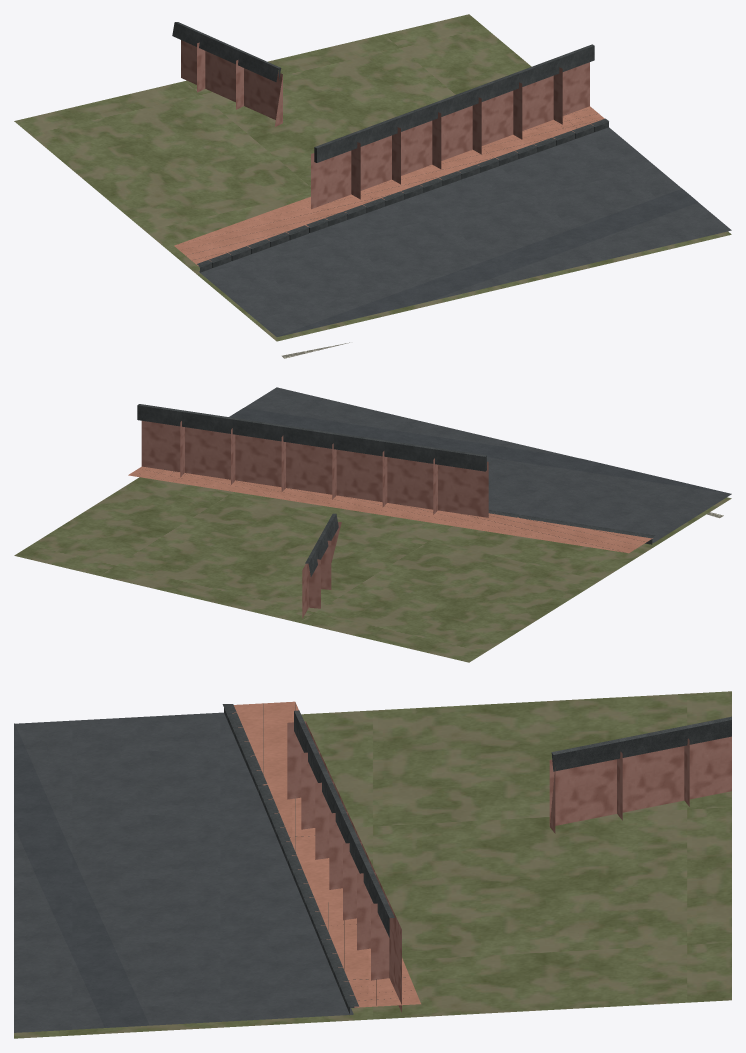
3 views of the same model, one above another, from view 1: azimuth 30°, elevation 25°; view 2: azimuth 150°, elevation 25°; view 3: azimuth 270°, elevation 25° (orthographic). The views are drawn at different scales.
Bounding box in the file's own units: 16 × 3.59 × 16.
8 materials, 8 textured.
